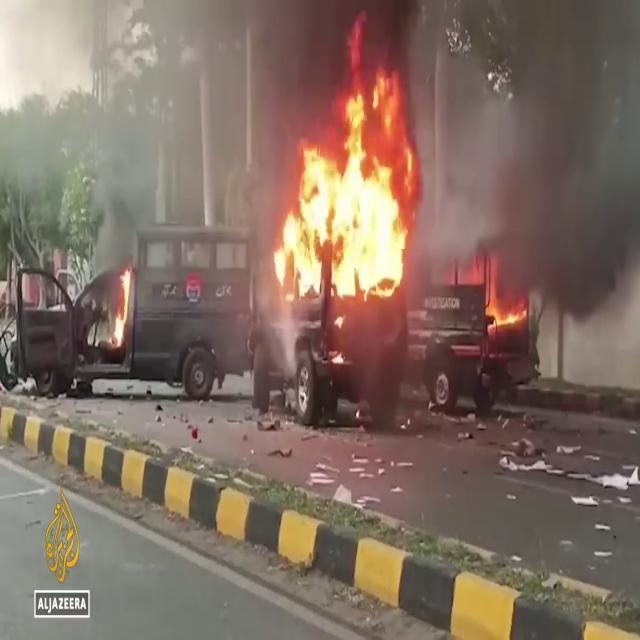Fire: (269, 62, 421, 310), (484, 283, 528, 337), (109, 266, 135, 352)
Smoke: (430, 0, 640, 335), (68, 2, 312, 282)
